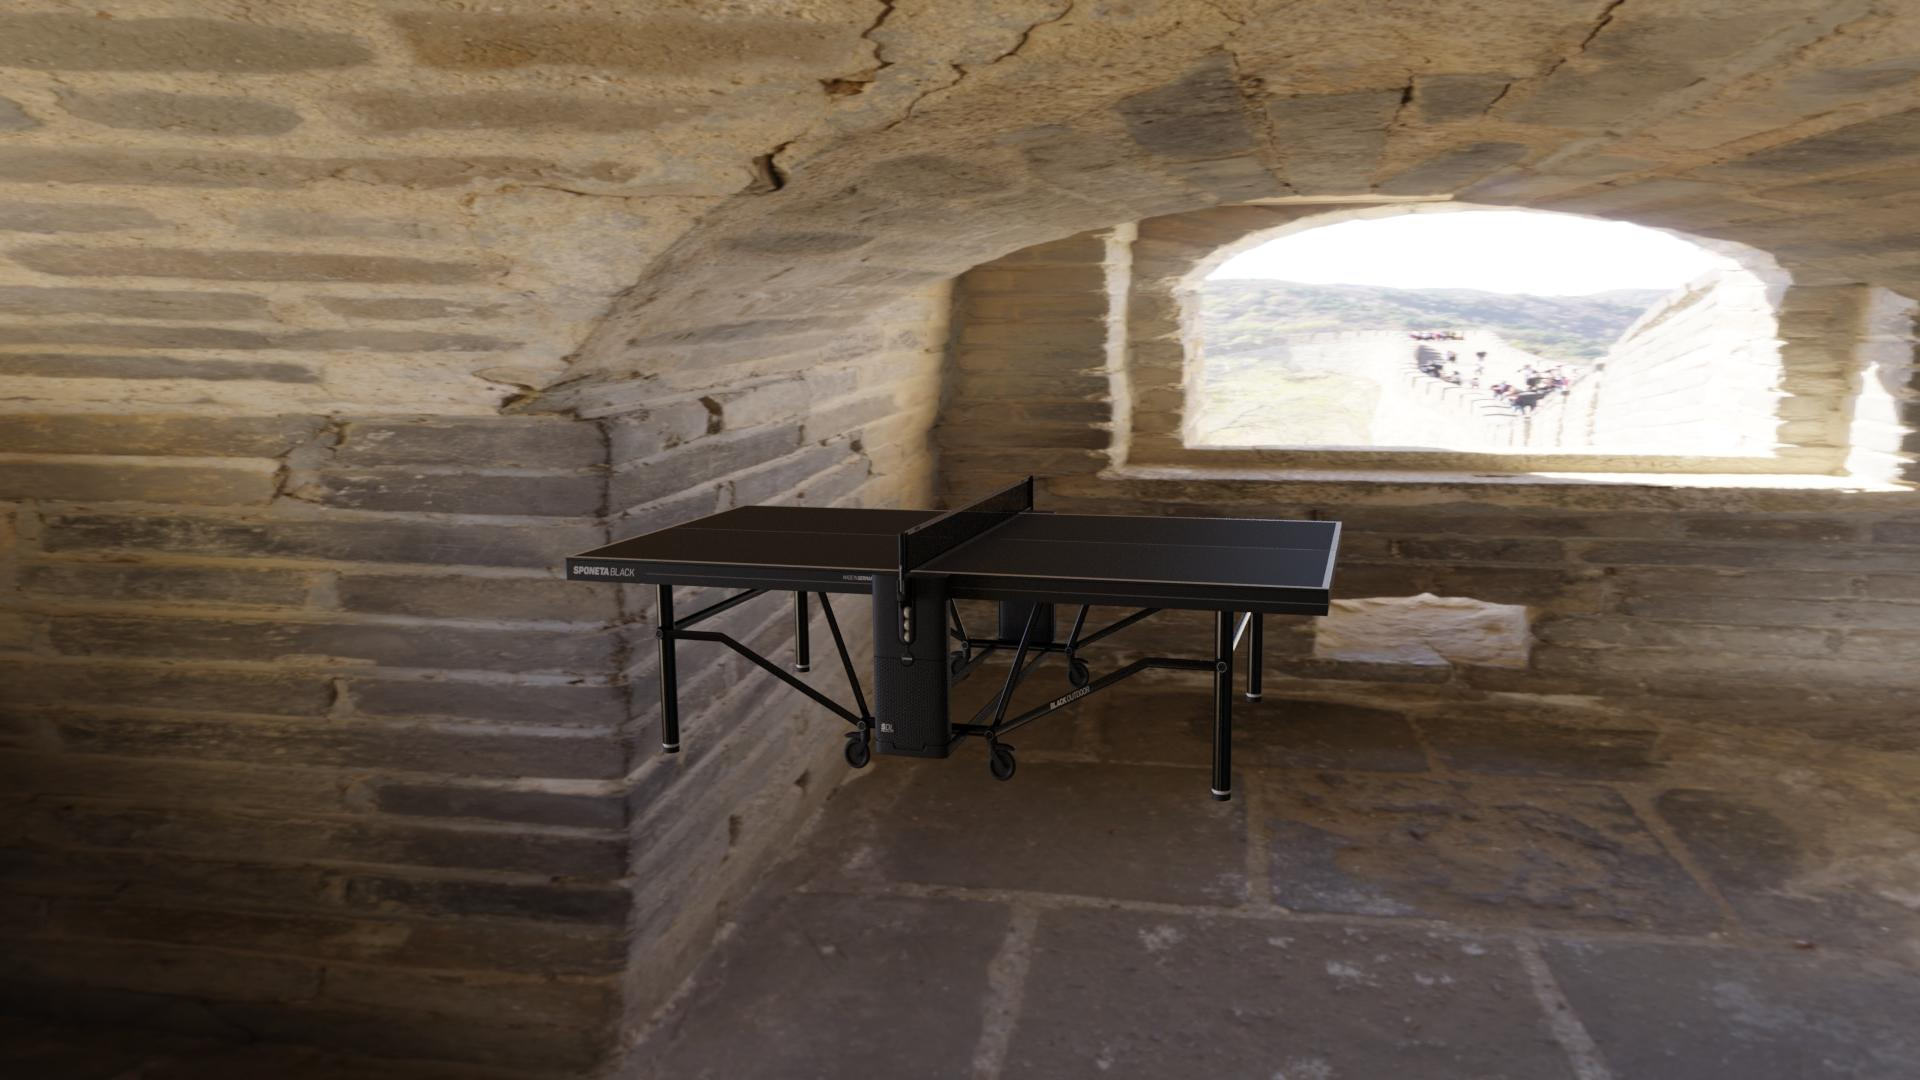table: (573, 505, 1336, 587)
